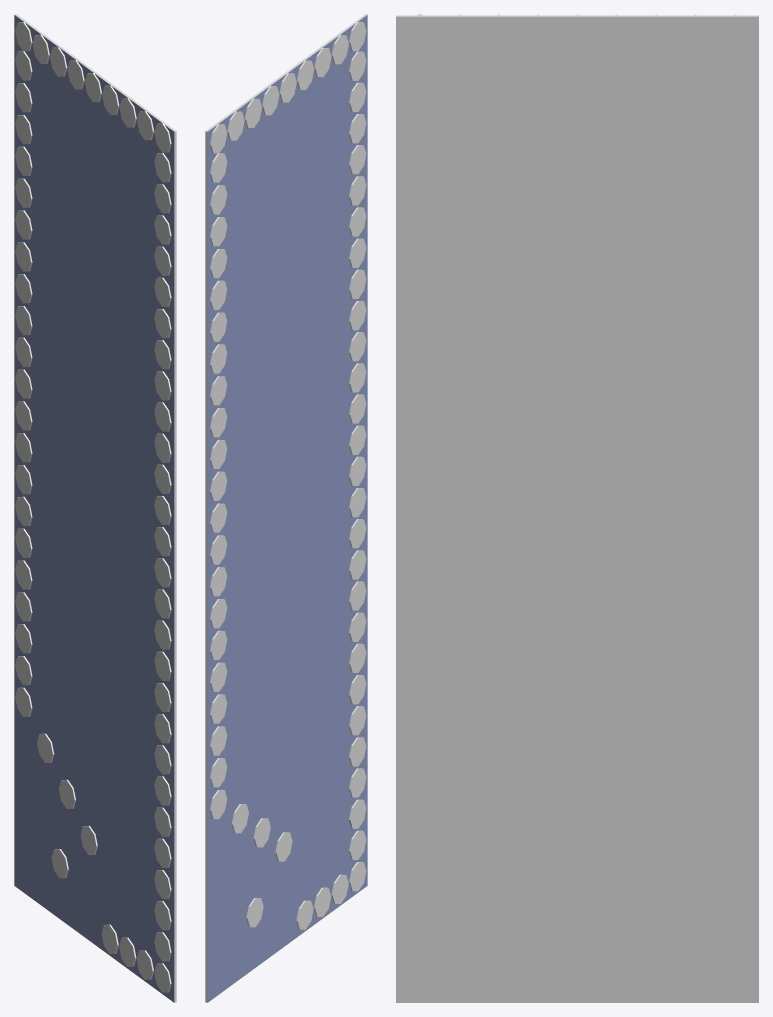
Rendered from VannaMirror.FBX.
3 views of the same model, side by side, from view 1: azimuth 30°, elevation 25°; view 2: azimuth 150°, elevation 25°; view 3: azimuth 270°, elevation 25° (orthographic). The views are drawn at different scales.
Visible parts, largest first — view 1: VannaMirror; view 2: VannaMirror; view 3: VannaMirror.
Part boxes in pixels (x1,y1,x2,y2): VannaMirror: (14, 14, 176, 1002); VannaMirror: (205, 14, 367, 1002); VannaMirror: (396, 14, 758, 1002).
Size of the model in its own units: 0.5416 by 40 by 120.
